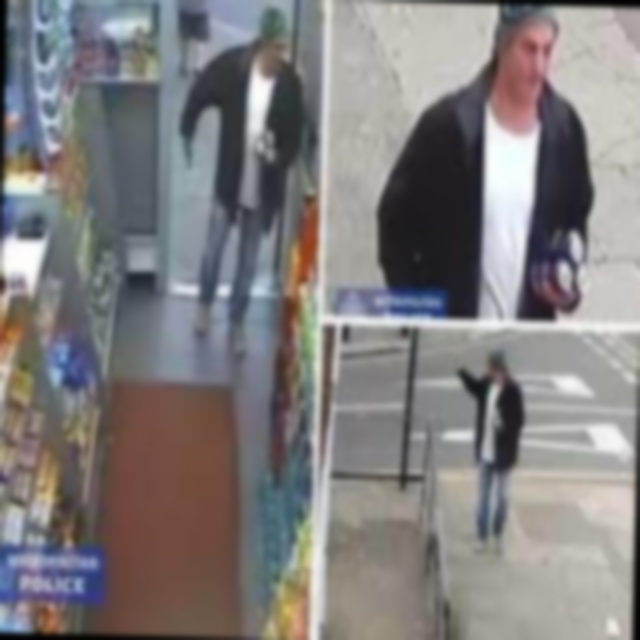gun: (174, 126, 196, 175)
